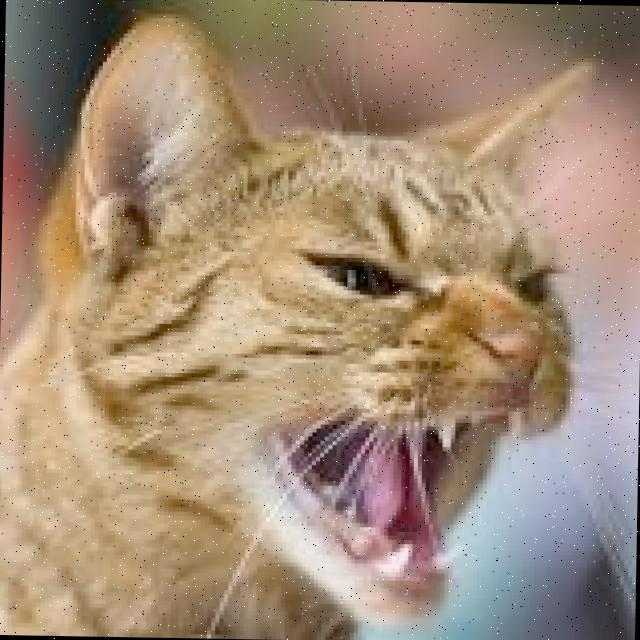Angry: (203, 195, 572, 614)
